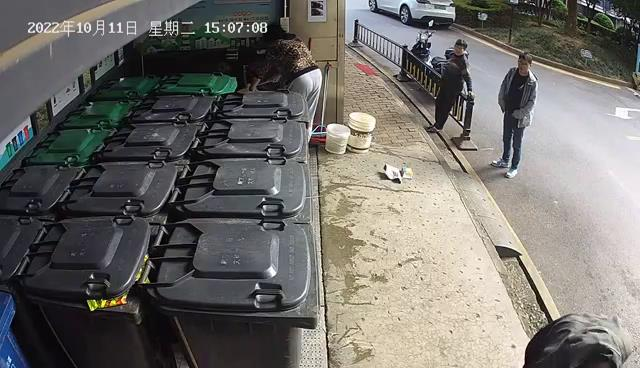person: (239, 18, 325, 150), (487, 49, 539, 180), (421, 36, 477, 135)
zhizhipin: (382, 163, 404, 184), (398, 164, 415, 181)
